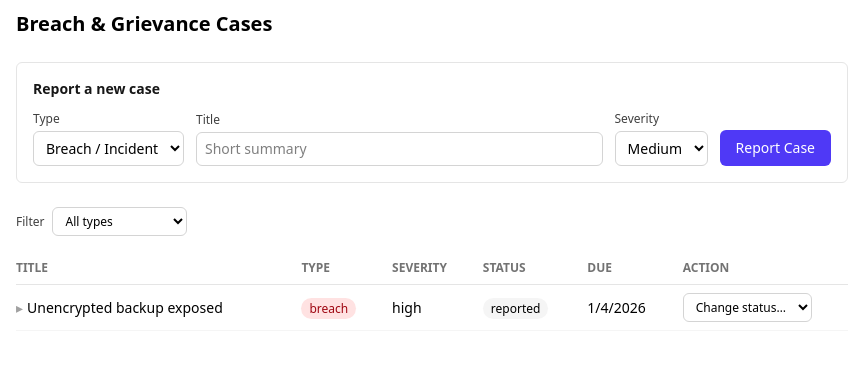
Scenario: CaseQueuePage › shows an error message when a transition is rejected
Expected: the text "Unencrypted backup exposed" is shown, [27, 298, 223, 316]
Select "Resolved" in the dropdown named "Change status for Unencrypted backup exposed" at (747, 308), box [683, 293, 812, 322]
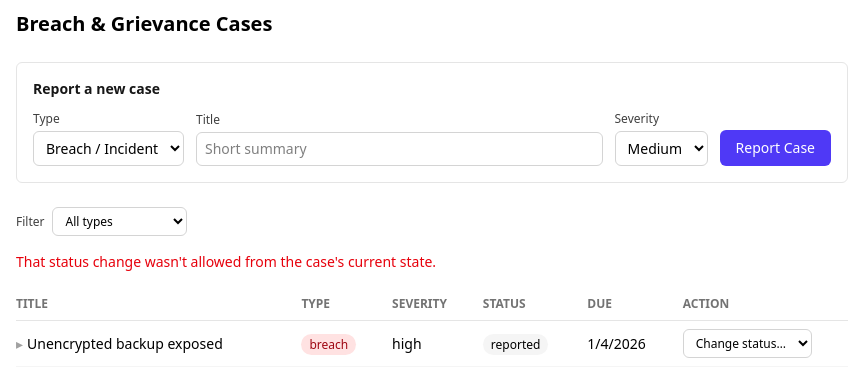
Expected: the text "That status change wasn't allowed from the case's current state." is shown, [16, 252, 436, 271]
